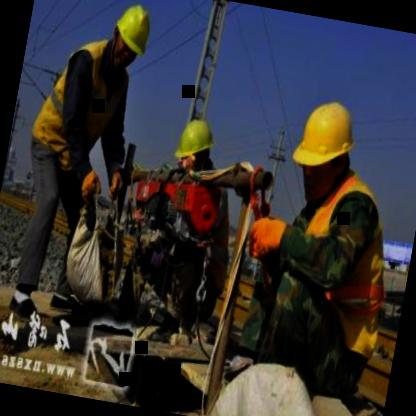helmet: (284, 88, 364, 205), (103, 0, 156, 78), (169, 108, 221, 181)
